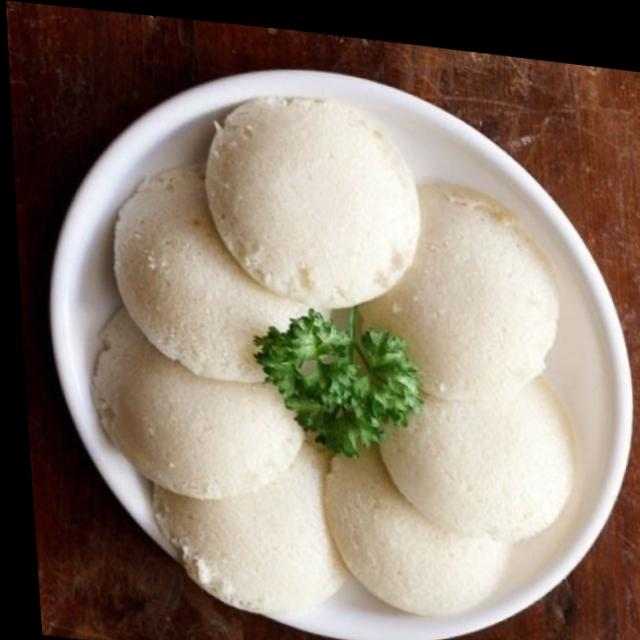IDLI: (95, 101, 572, 615)
